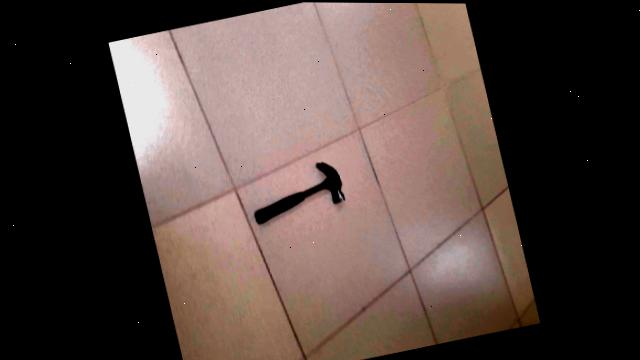hammer: (236, 144, 357, 249)
